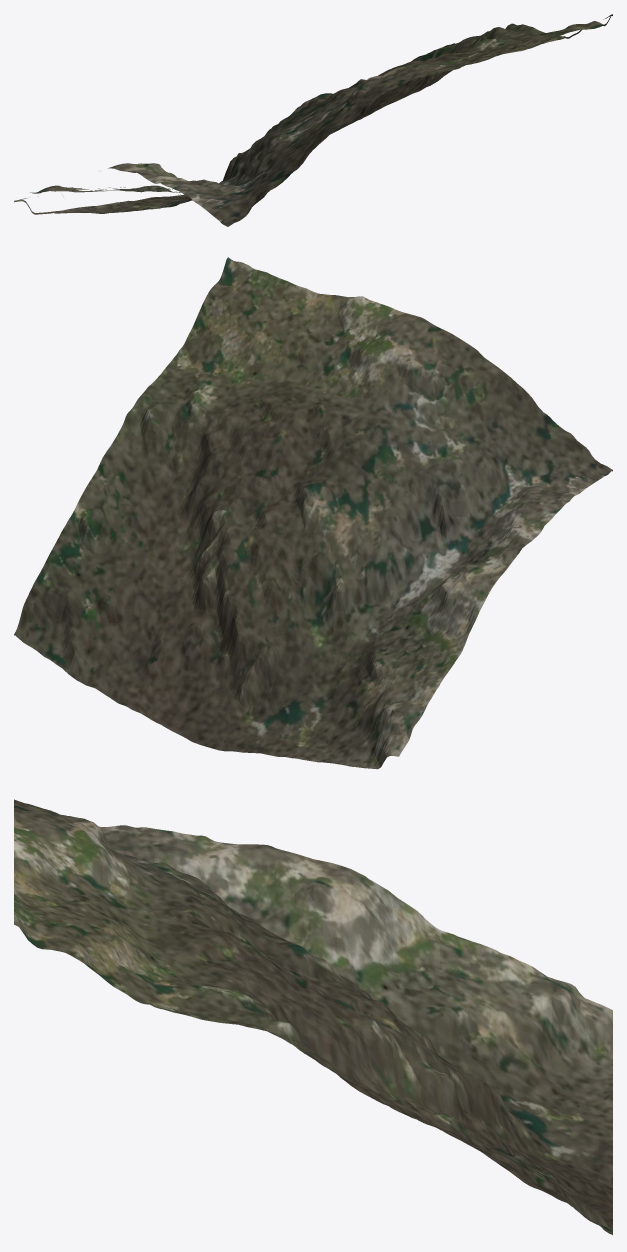
The picture shows the model from 3 angles, top to bottom: view 1: azimuth 30°, elevation 25°; view 2: azimuth 150°, elevation 25°; view 3: azimuth 270°, elevation 25°; orthographic projection. The views are drawn at different scales.
Size of the model in its own units: 250 by 179 by 241.
1 material, 1 textured.
